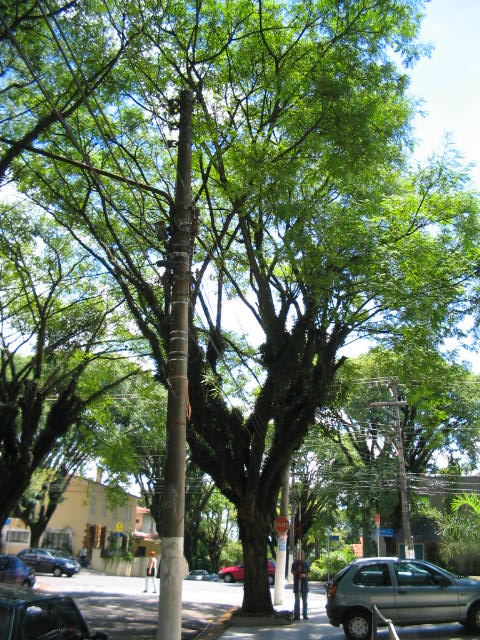crown: (8, 49, 475, 428)
stem: (223, 510, 283, 617)
stick: (289, 501, 304, 620)
tree: (5, 47, 476, 617)
